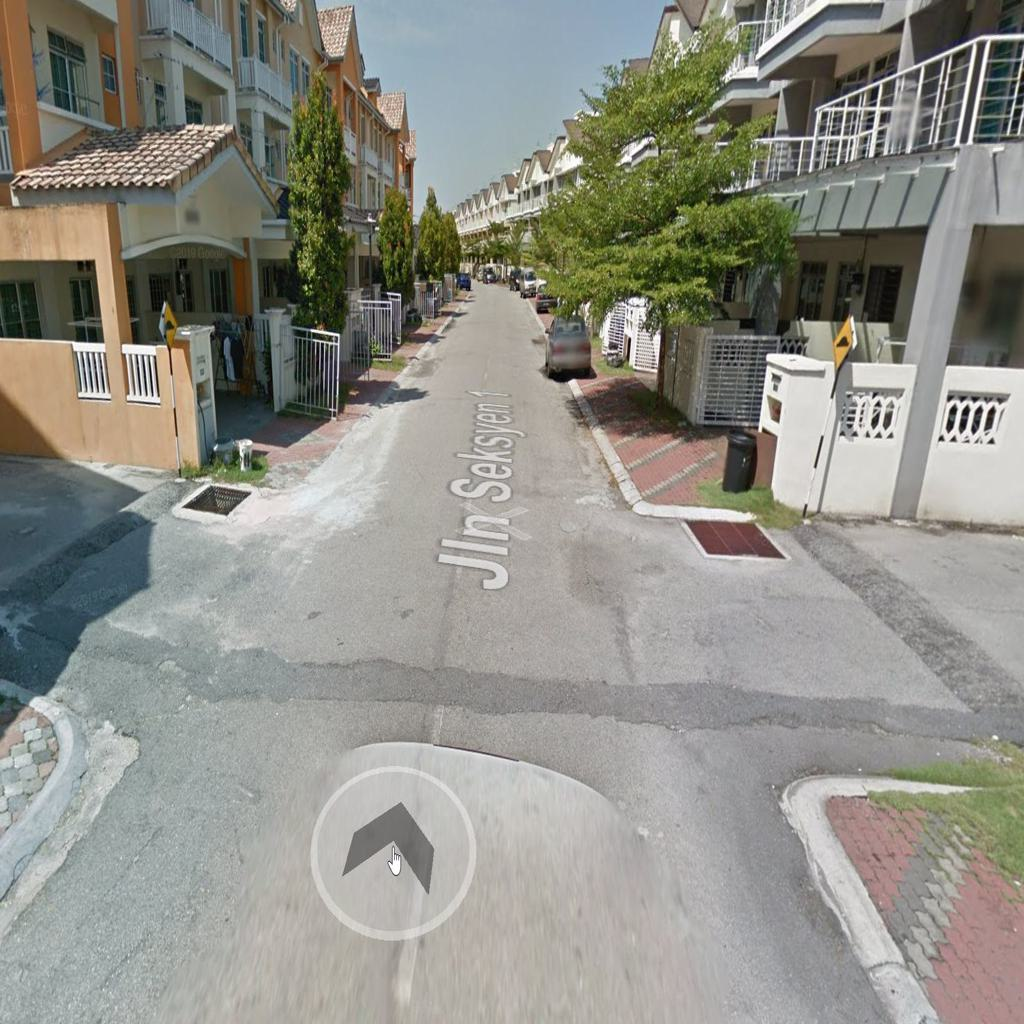Junction: (605, 474, 1023, 820), (8, 424, 372, 793)
